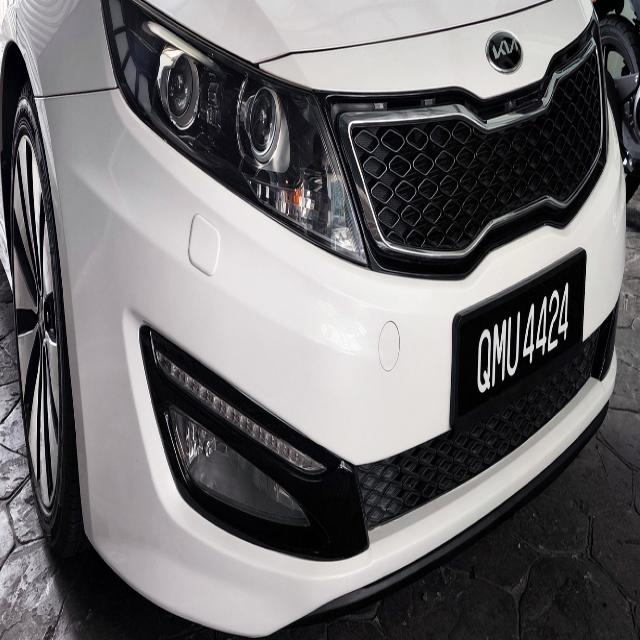car-plate: (445, 234, 590, 443)
